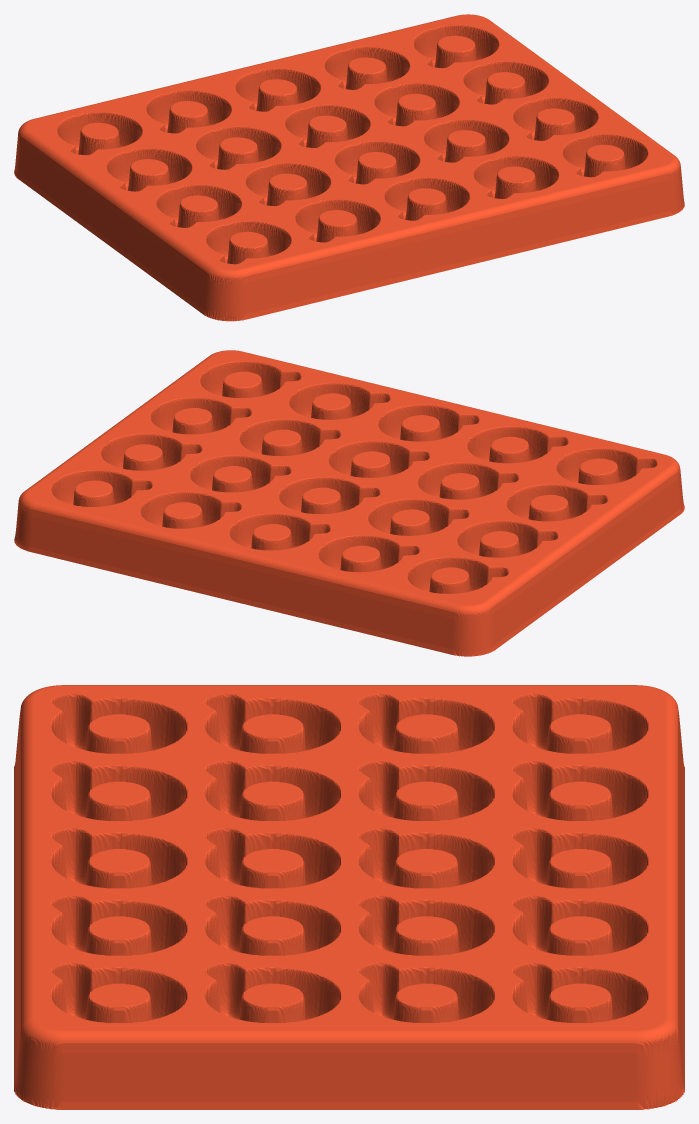
File: mold.glb
3 views of the same model, one above another, from view 1: azimuth 30°, elevation 25°; view 2: azimuth 150°, elevation 25°; view 3: azimuth 270°, elevation 25° (orthographic). The views are drawn at different scales.
Visible parts, largest first — view 1: geometry_0; view 2: geometry_0; view 3: geometry_0.
Boxes of the visible parts, bbox=[...] form: geometry_0: bbox=[14, 14, 684, 321]; geometry_0: bbox=[14, 350, 684, 656]; geometry_0: bbox=[14, 685, 684, 1109].
Size of the model in its own units: 0.1571 by 0.0145 by 0.1236.
